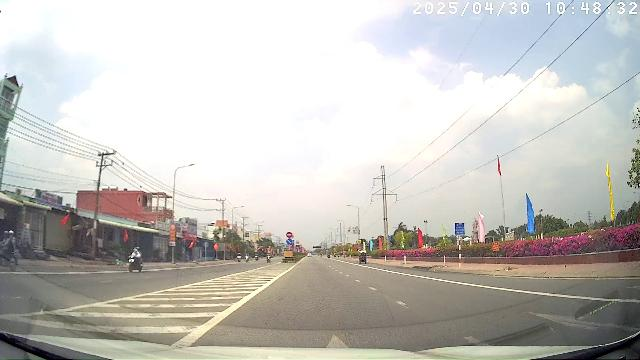102-cam-di-nguoc-chieu: (286, 232, 293, 238)
302a-huong-phai-di-vong-chuong-ngai-vat-1: (286, 238, 292, 245)
